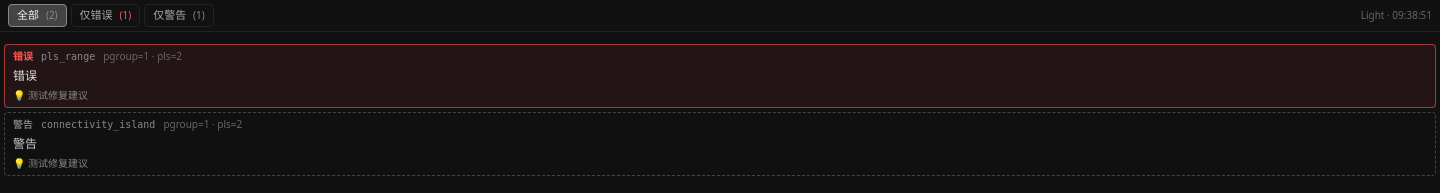
ValidatePanel › 点击"仅警告"切换 filter
Click the button "仅警告 (1)" at (179, 15), box [144,4,214,26]
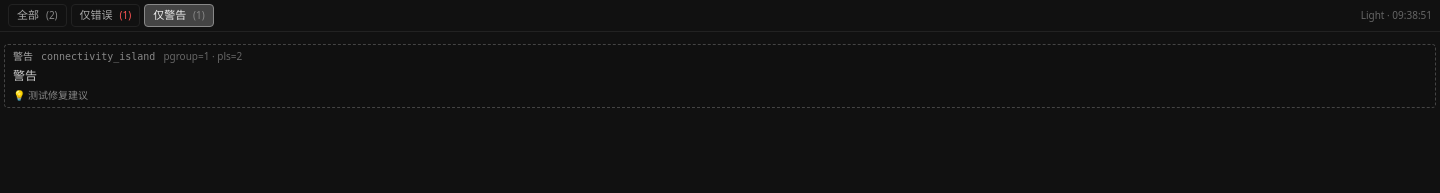
expect the list item "警告 connectivity_island pgroup=1 · pls=2 警告 💡 测试修复建议" is shown: met, box [4,44,1436,108]
expect the number of list items is 1: met, box [4,44,1436,108]
